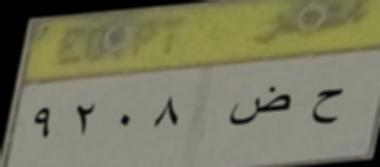0: (112, 106, 142, 138)
2: (68, 96, 104, 144)
7aa: (308, 81, 350, 136)
8: (150, 86, 186, 138)
9: (33, 98, 59, 146)
daad: (230, 75, 292, 138)
